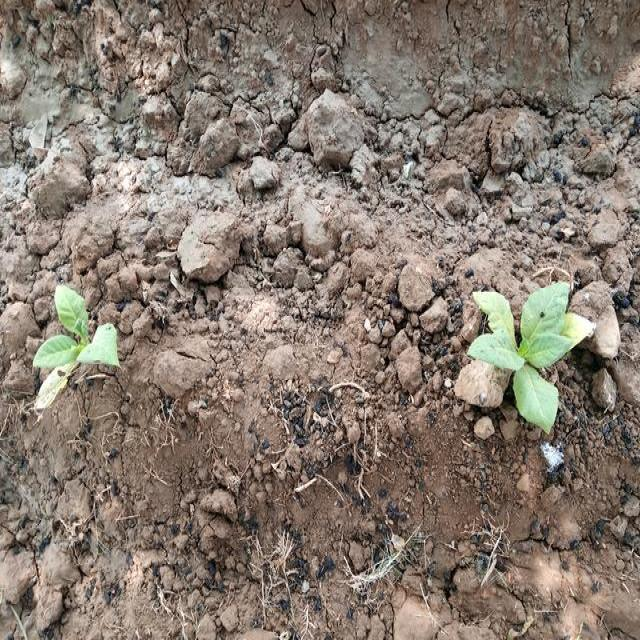crop: (474, 276, 594, 425), (38, 284, 116, 416)
